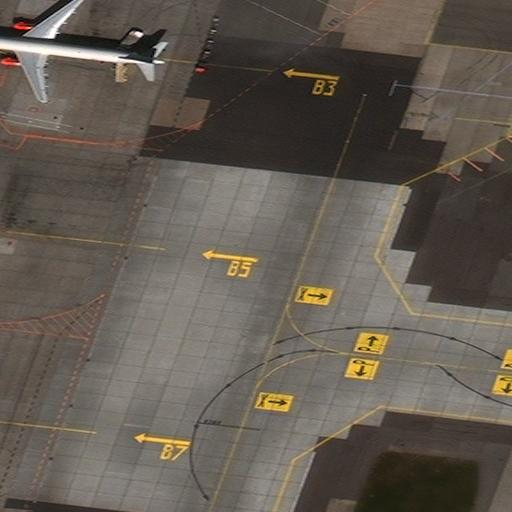Medium Civil Transport: (0, 0, 168, 102)
